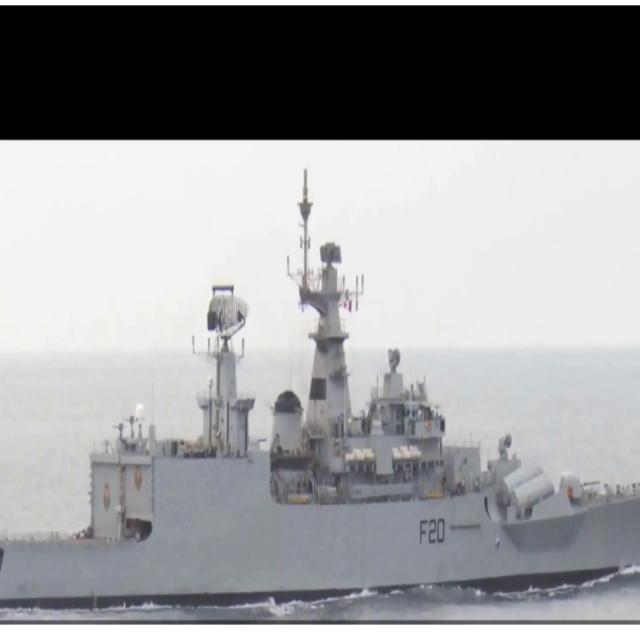OCR: (414, 511, 448, 552)
